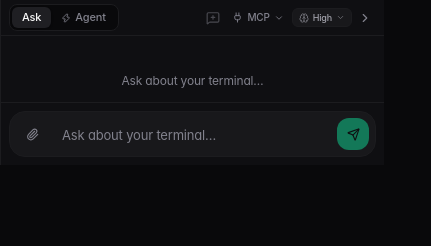
AiPanel renders › announces a failed mode save and retries when the choice is selected again
Click the button "Agent".
click(84, 18)  # box [51, 7, 116, 28]
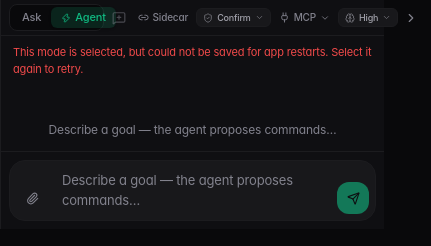
Now the message shows "This mode is selected, but could not be saved for app restarts. Select it again to retry.", box [13, 45, 371, 76]
Click the button "Agent".
click(84, 18)  # box [51, 7, 116, 28]
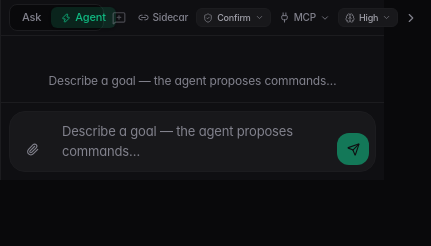
Now the message "This mode is selected, but could not be saved for app restarts. Select it again" is gone
